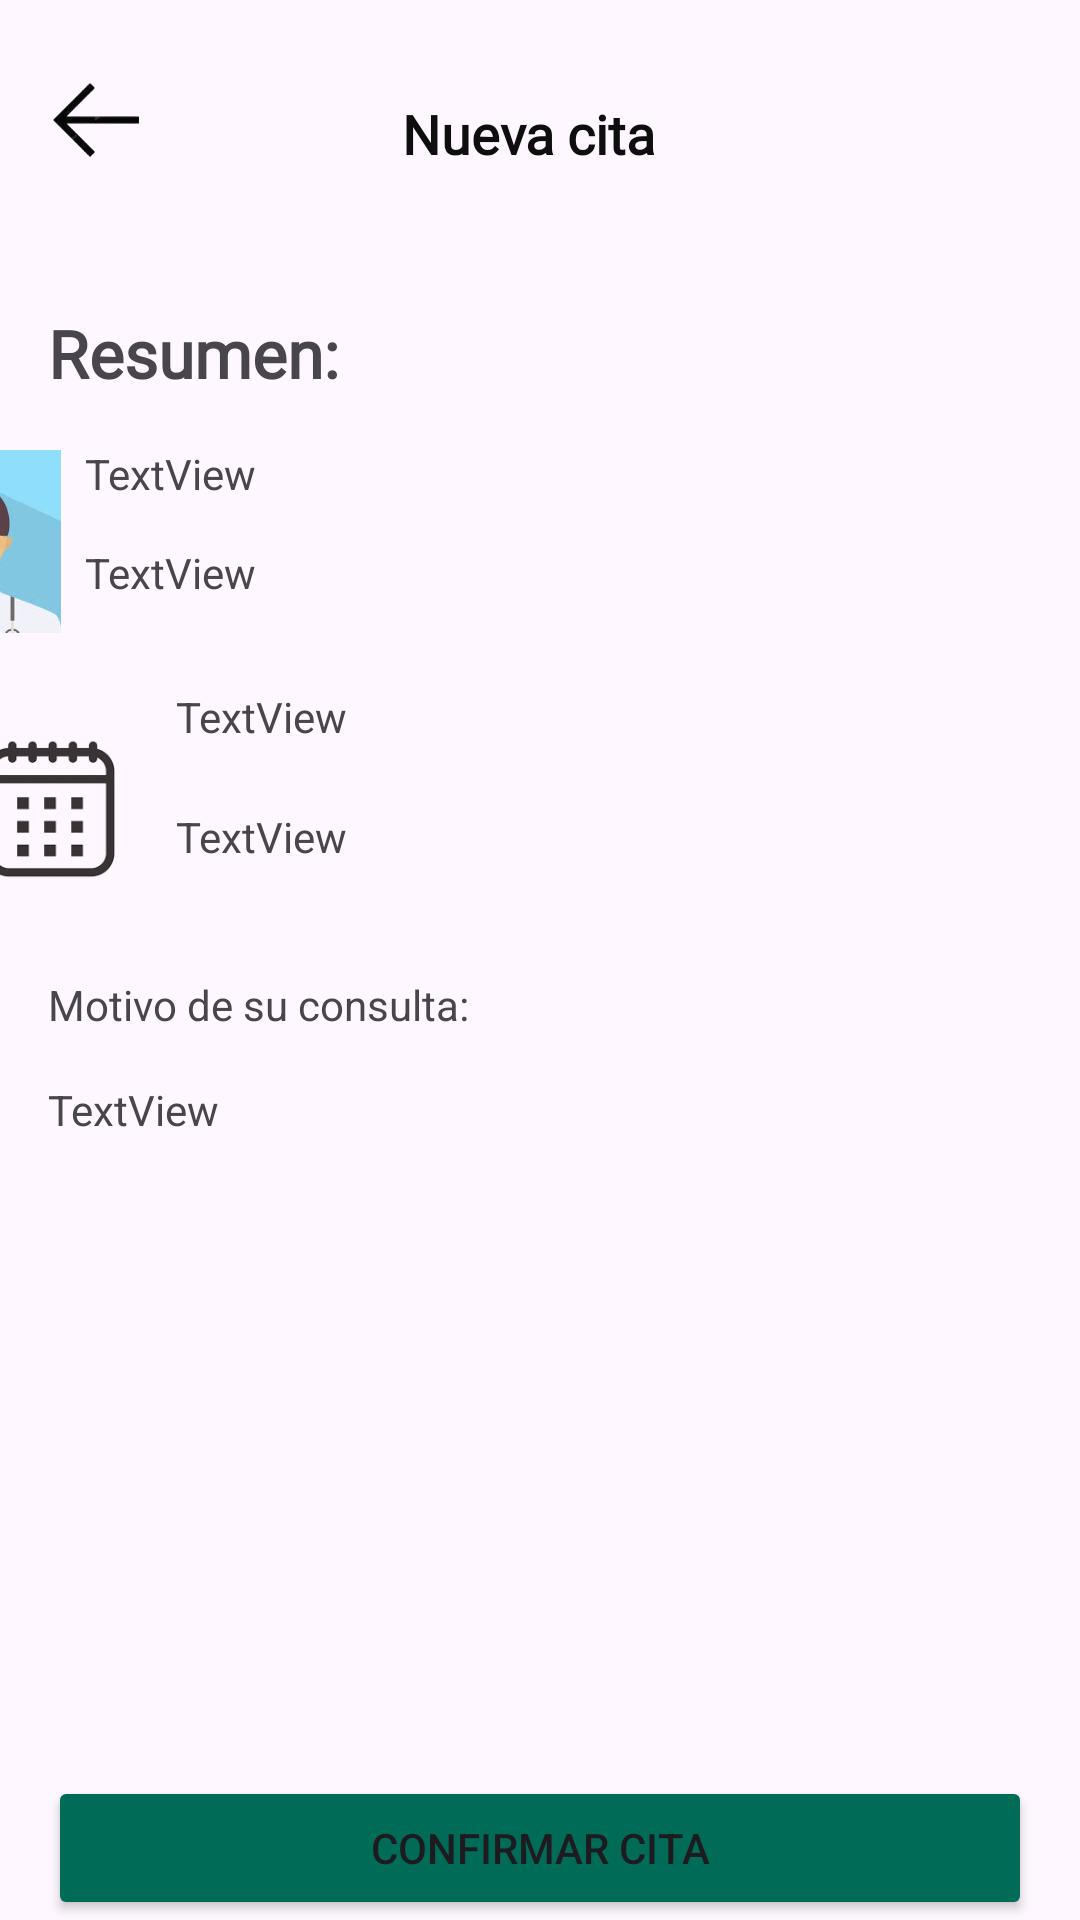

Locate icon controls on the screen. Image size 1080px x 1920px, boxes as (x1, y1, x2, y2).
Botón para regresar a la pantalla principal: (53, 83, 139, 157)
